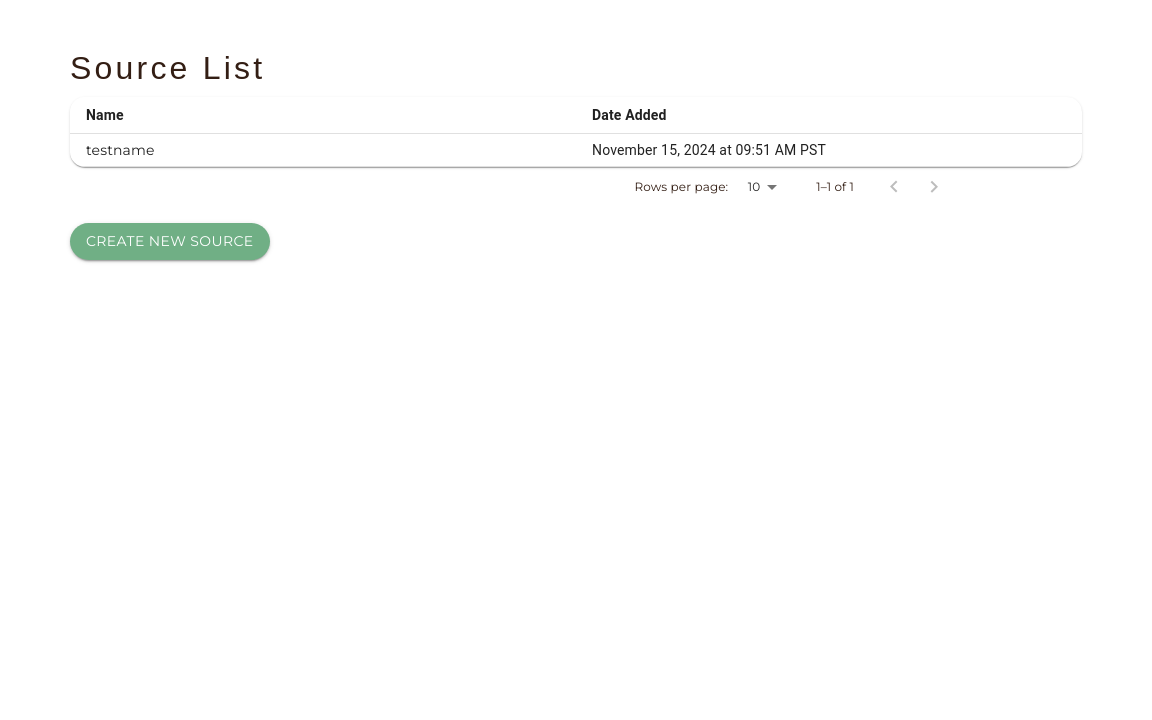
Testing Sources component › Clicking delete button in source details renders delete form and deletes selected source
Click the link "testname" at (120, 150), box [86,141,155,159]
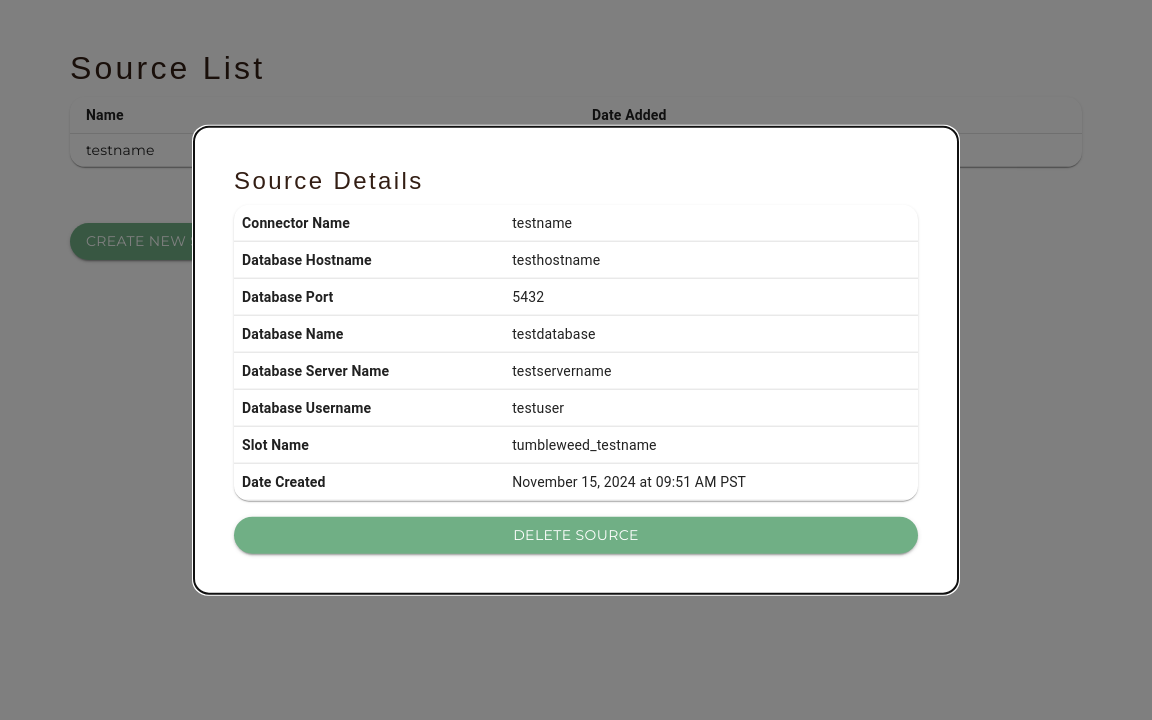
Check: the button "Delete Source" is shown
Click the button "Delete Source" at (576, 535), box [234,517,918,553]
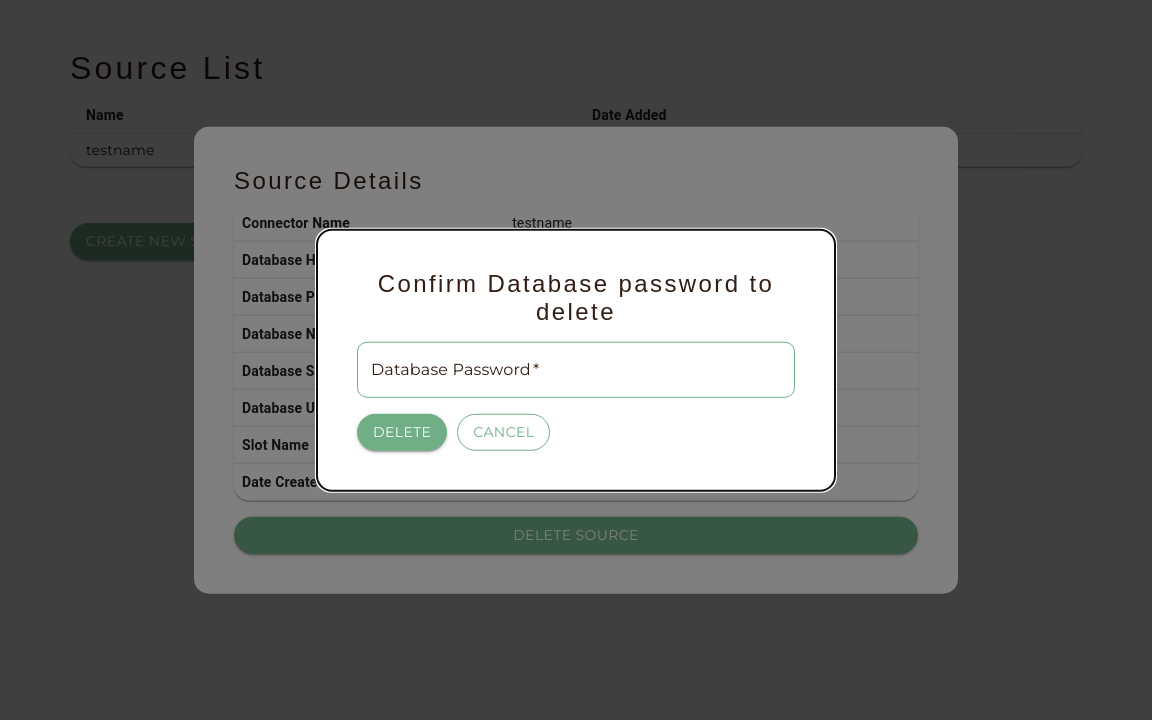
Check: the heading "Confirm Database password to delete" is shown, box [357,270,795,326]
Check: the password field labelled "Database Password *" is shown
Type "testdbpassword" into the password field labelled "Database Password *" at (576, 370), box [357,342,795,398]
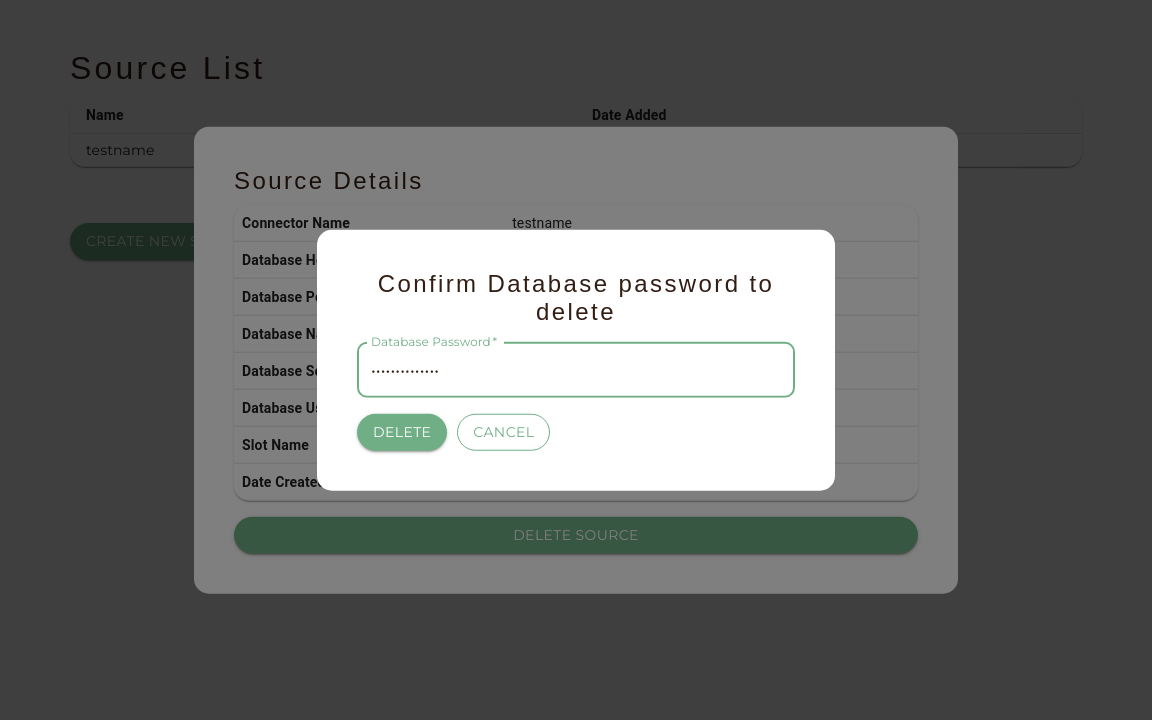
Click the button "Delete" at (402, 432), box [357,414,447,450]
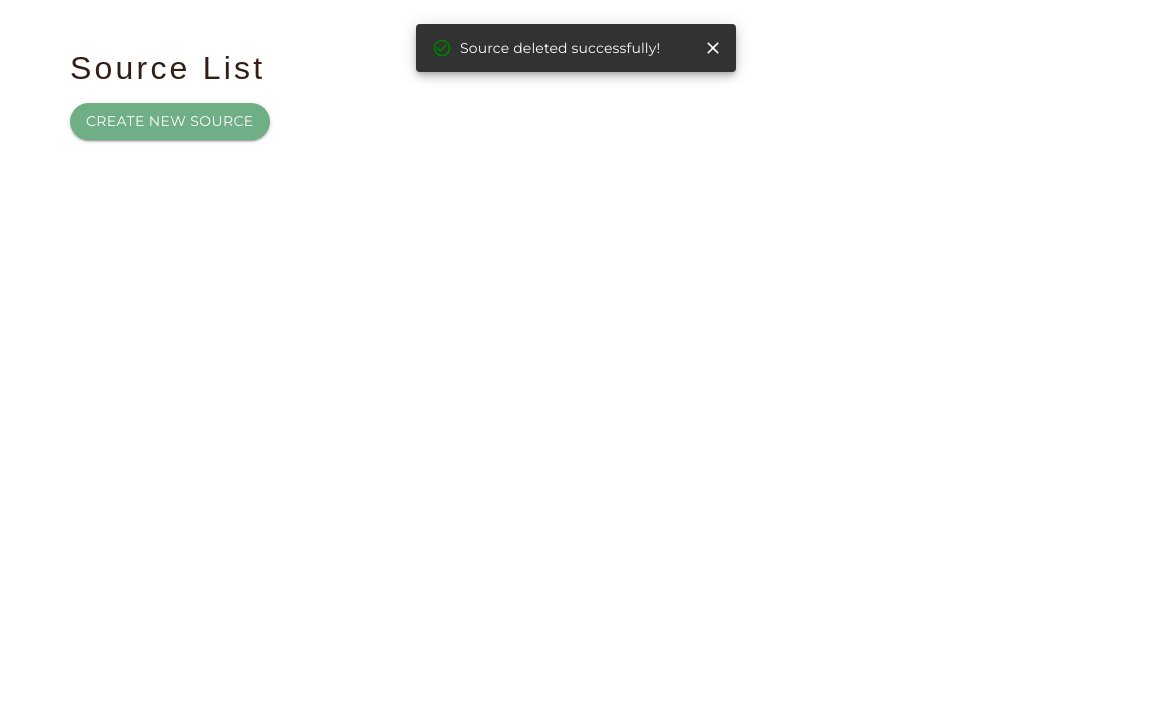
Check: the text "Source deleted successfully!" is shown, box [432,38,660,58]
